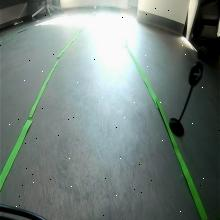right: (188, 60, 203, 88)
